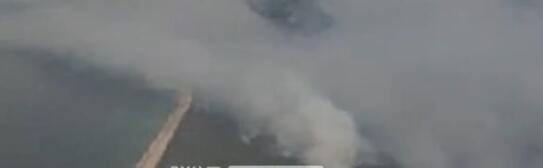yanwu: (4, 1, 538, 165)
